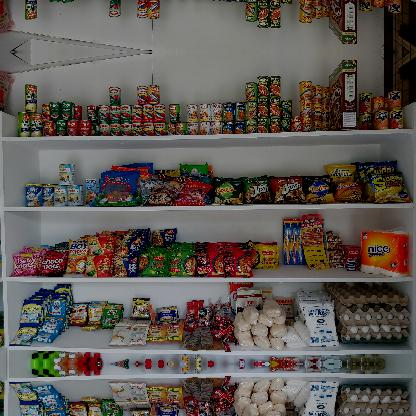Koko-Krunch: (329, 60, 357, 130), (329, 0, 358, 45)
